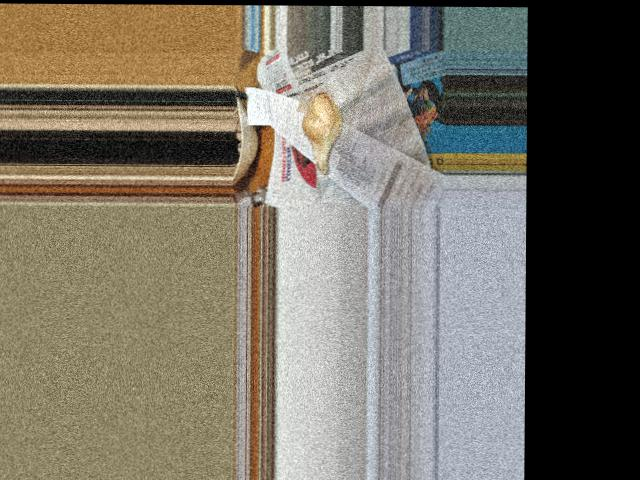onion: (298, 93, 343, 168)
